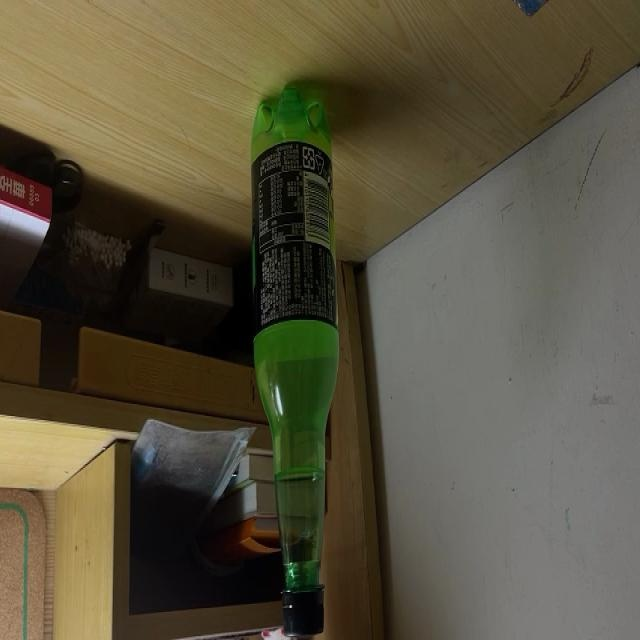Mountain-Dew: (250, 84, 340, 638)
